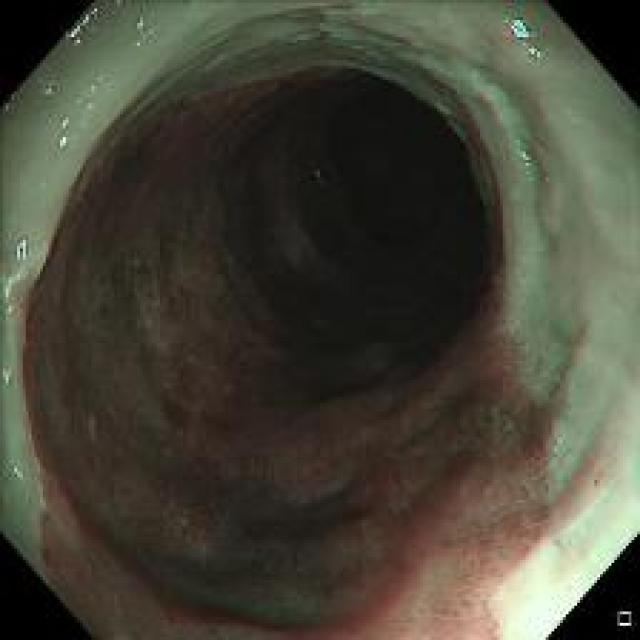color misalignment: (55, 0, 116, 54), (499, 12, 546, 64), (54, 110, 81, 159), (131, 14, 162, 50), (1, 272, 21, 324), (10, 459, 42, 491), (32, 72, 64, 102), (12, 232, 35, 262), (510, 142, 534, 169), (2, 355, 18, 392), (4, 85, 24, 111)
contrast: (175, 85, 485, 370), (58, 119, 172, 274)
saturation: (489, 539, 590, 639)
